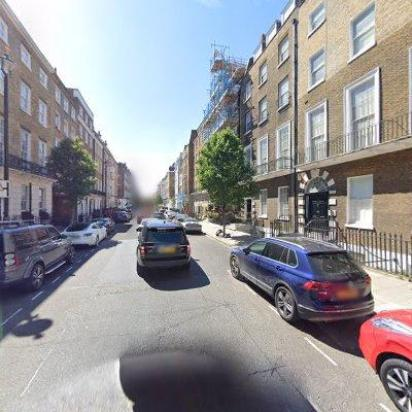moving-car: (135, 217, 191, 276)
stationary-car-onstreet: (229, 233, 375, 327), (0, 219, 76, 297), (358, 306, 412, 412), (60, 220, 108, 246), (92, 218, 116, 234), (180, 218, 202, 234), (172, 214, 188, 226), (114, 211, 128, 223)
